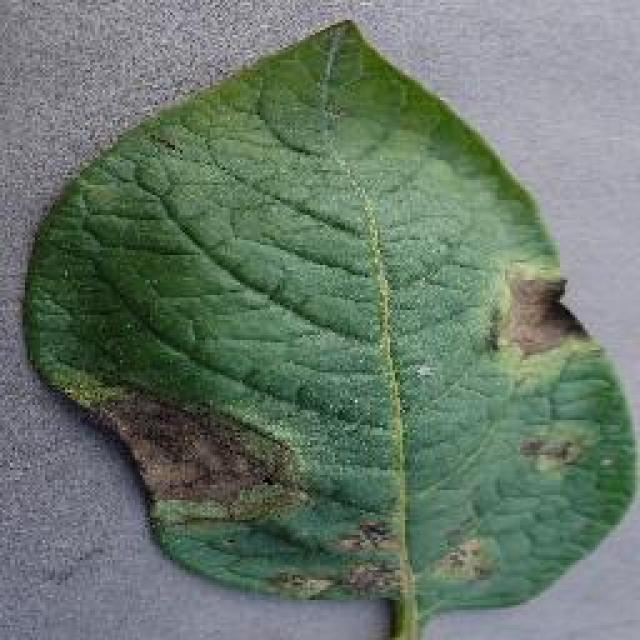Potato___Late_blight: (2, 2, 638, 640)
